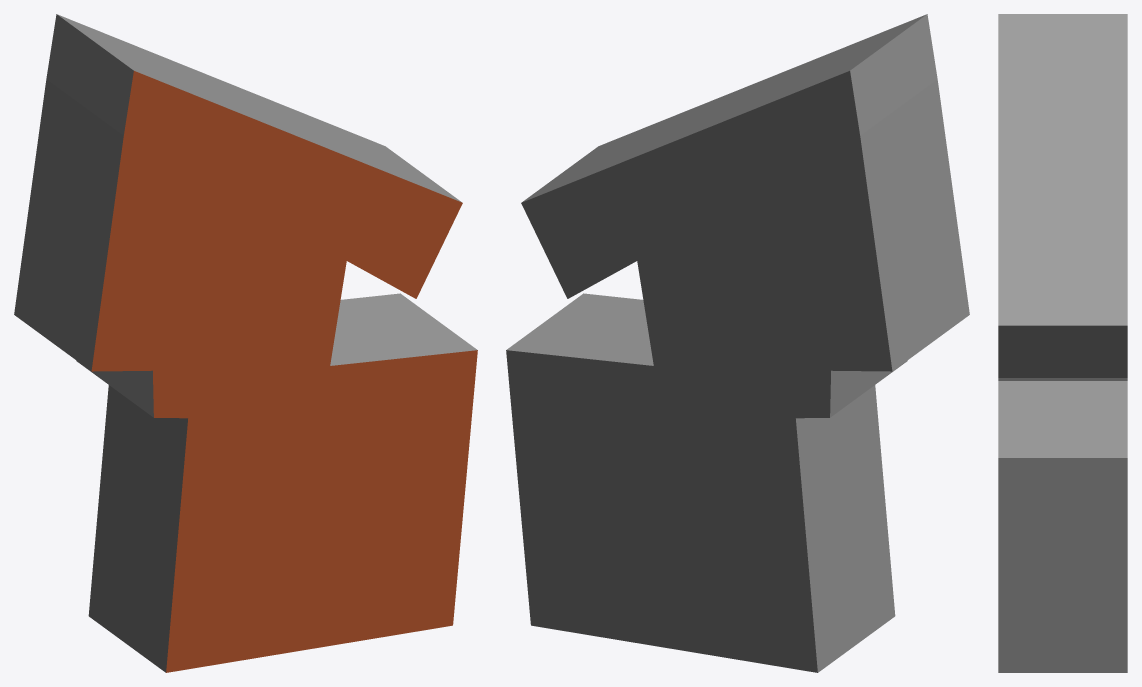
The model's file is construction_5640_assumed_A_Casa_h6m.obj.
3 views of the same model, side by side, from view 1: azimuth 30°, elevation 25°; view 2: azimuth 150°, elevation 25°; view 3: azimuth 270°, elevation 25° (orthographic). The views are drawn at different scales.
Visible parts, largest first — view 1: construction_5640_assumed_A_Casa; view 2: construction_5640_assumed_A_Casa; view 3: construction_5640_assumed_A_Casa.
Part boxes in pixels (x1,y1,x2,y2): construction_5640_assumed_A_Casa: [14, 14, 477, 672]; construction_5640_assumed_A_Casa: [506, 14, 969, 672]; construction_5640_assumed_A_Casa: [998, 14, 1127, 672].
Size of the model in its own units: 17.28 by 27.05 by 6.
